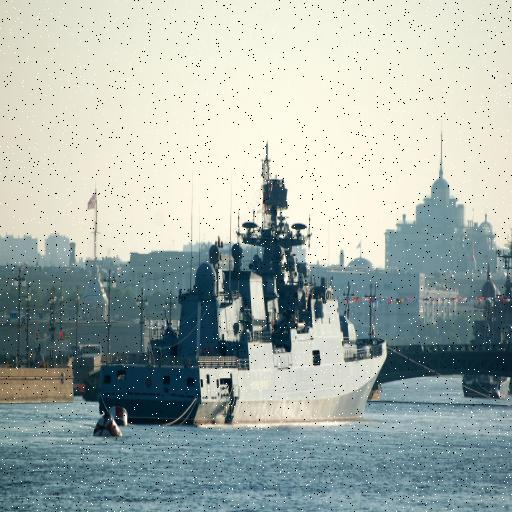Fragata: (95, 132, 389, 432)
